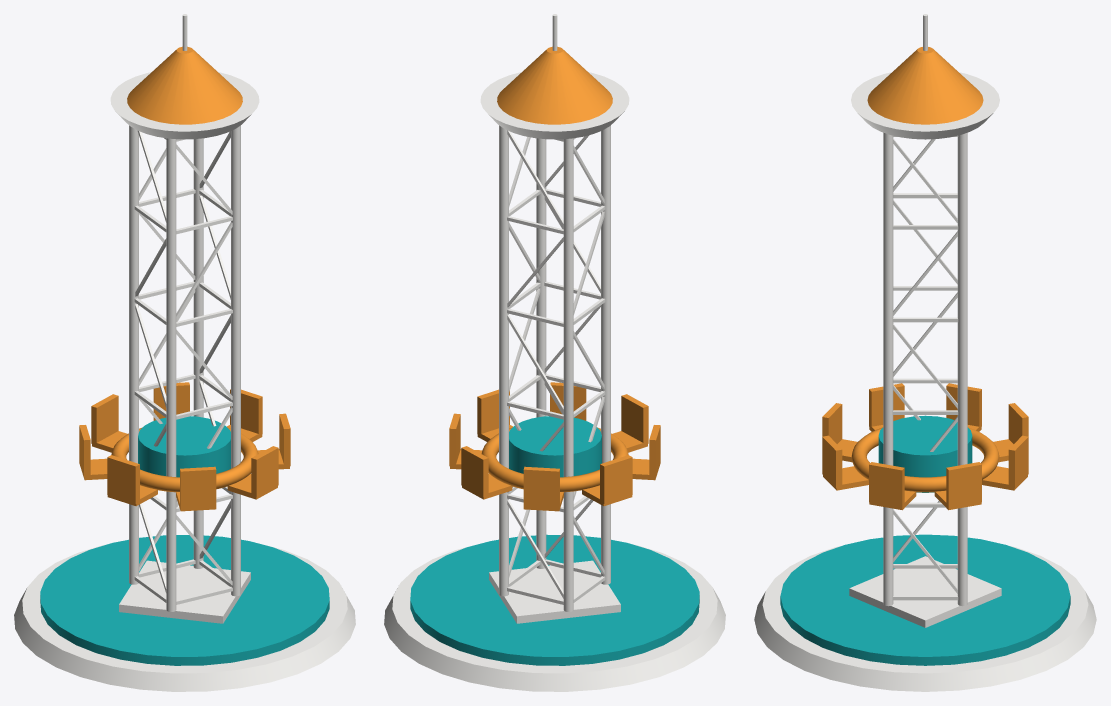
The model's file is drop-tower.glb.
The picture shows the model from 3 angles, left to right: view 1: azimuth 30°, elevation 25°; view 2: azimuth 150°, elevation 25°; view 3: azimuth 270°, elevation 25°; orthographic projection.
Parts seen in each view (by area): view 1: deck, plinth, crown_cone, mast_post_3, mast_footing, mast_post_0, carriage_hub, mast_post_2, crown_deck, mast_post_1, gondola_ring, seat_back_2 (+7 smaller); view 2: deck, plinth, crown_cone, mast_post_2, mast_footing, mast_post_1, carriage_hub, mast_post_3, crown_deck, mast_post_0, gondola_ring, seat_back_5 (+7 smaller); view 3: deck, plinth, crown_cone, mast_footing, mast_post_0, mast_post_1, carriage_hub, crown_deck, gondola_ring, seat_back_0, seat_back_7, seat_back_3 (+6 smaller).
Boxes of the visible parts, <box> form: deck: <box>40,535,329,665</box>; plinth: <box>14,543,355,691</box>; crown_cone: <box>127,46,242,124</box>; mast_post_3: <box>166,138,176,611</box>; mast_footing: <box>119,560,250,623</box>; mast_post_0: <box>231,125,240,596</box>; carriage_hub: <box>138,416,230,477</box>; mast_post_2: <box>129,125,138,584</box>; crown_deck: <box>110,72,259,139</box>; mast_post_1: <box>193,138,203,568</box>; gondola_ring: <box>111,427,258,492</box>; seat_back_2: <box>180,466,216,509</box>; deck: <box>410,534,699,665</box>; plinth: <box>384,543,725,691</box>; crown_cone: <box>497,46,612,124</box>; mast_post_2: <box>563,138,573,611</box>; mast_footing: <box>489,560,620,623</box>; mast_post_1: <box>499,125,508,596</box>; carriage_hub: <box>509,416,601,477</box>; mast_post_3: <box>601,125,610,584</box>; crown_deck: <box>480,72,629,139</box>; mast_post_0: <box>536,138,546,568</box>; gondola_ring: <box>481,427,628,492</box>; seat_back_5: <box>523,466,559,509</box>; deck: <box>780,534,1070,665</box>; plinth: <box>754,546,1096,691</box>; crown_cone: <box>867,47,983,124</box>; mast_footing: <box>849,556,1001,627</box>; mast_post_0: <box>883,132,893,606</box>; mast_post_1: <box>957,132,967,606</box>; carriage_hub: <box>878,415,972,492</box>; crown_deck: <box>851,72,999,139</box>; gondola_ring: <box>851,427,999,492</box>; seat_back_0: <box>869,462,904,507</box>; seat_back_7: <box>946,462,981,507</box>; seat_back_3: <box>869,383,904,426</box>.
Size of the model in its own units: 2.48 by 4.83 by 2.48.
